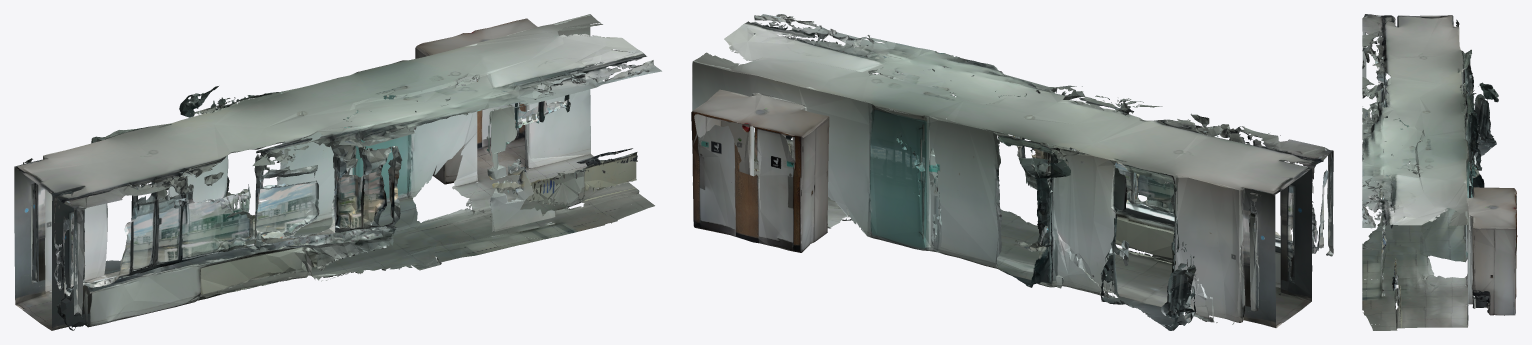
The model's file is 4_left_side_LOW_POLY.fbx.
The picture shows the model from 3 angles, left to right: view 1: azimuth 30°, elevation 25°; view 2: azimuth 150°, elevation 25°; view 3: azimuth 270°, elevation 25°; orthographic projection. The views are drawn at different scales.
Parts seen in each view (by area): view 1: 4_left_side_LOW_POLY; view 2: 4_left_side_LOW_POLY; view 3: 4_left_side_LOW_POLY.
Part boxes in pixels (x1,y1,x2,y2): 4_left_side_LOW_POLY: (14, 14, 661, 330); 4_left_side_LOW_POLY: (691, 14, 1333, 330); 4_left_side_LOW_POLY: (1362, 14, 1517, 330).
Size of the model in its own units: 1127 by 271 by 352.
Materials: 1 (1 with a texture image).
